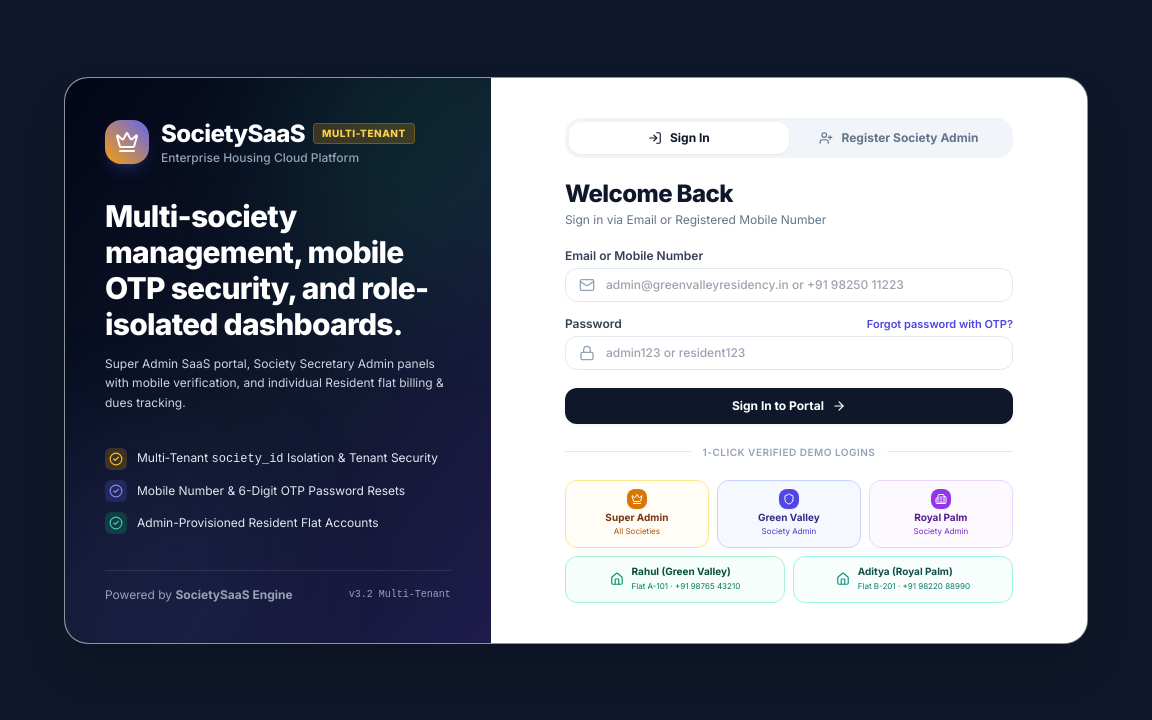
Test: LoginPage › allows switching between Sign In and Register
This screenshot has width=1152, height=720.
Click the button "Register Society Admin" at {"x": 899, "y": 138}, box x1=789 y1=122 x2=1009 y2=154
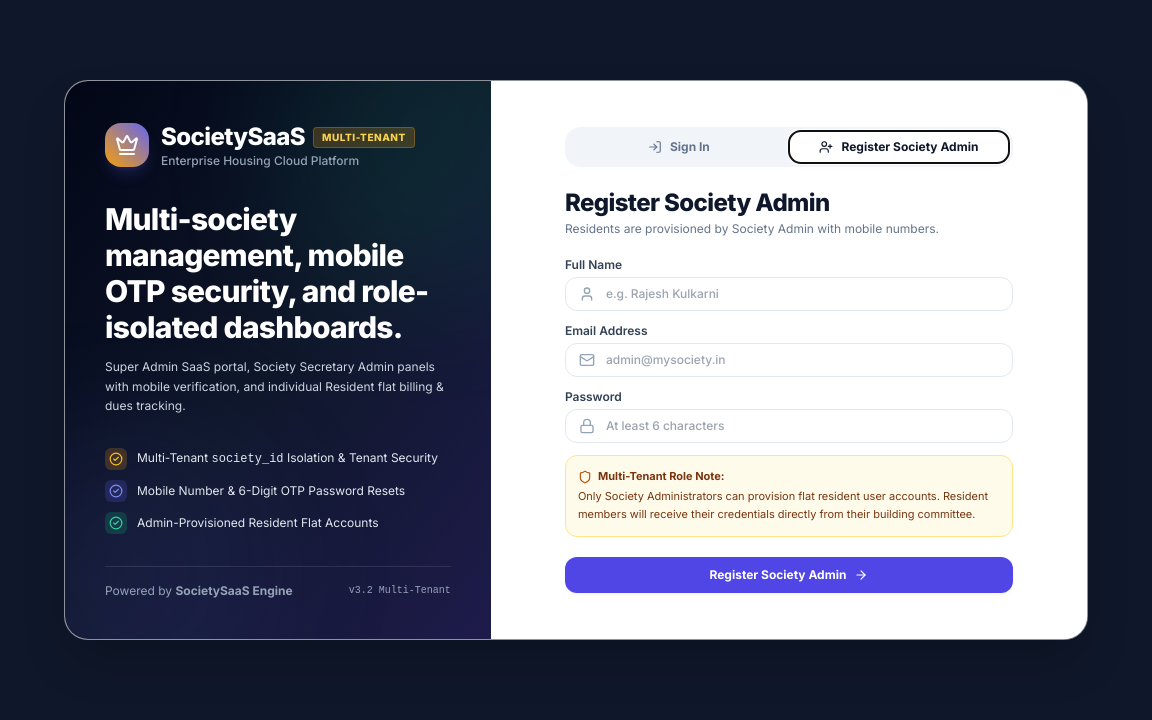
Result: the heading "Register Society Admin" is shown at x1=565 y1=188 x2=830 y2=217
Result: the field with placeholder "e.g. Rajesh Kulkarni" is shown at x1=565 y1=277 x2=1013 y2=311
Click the button "Sign In" at {"x": 679, "y": 147}, box x1=569 y1=131 x2=789 y2=163
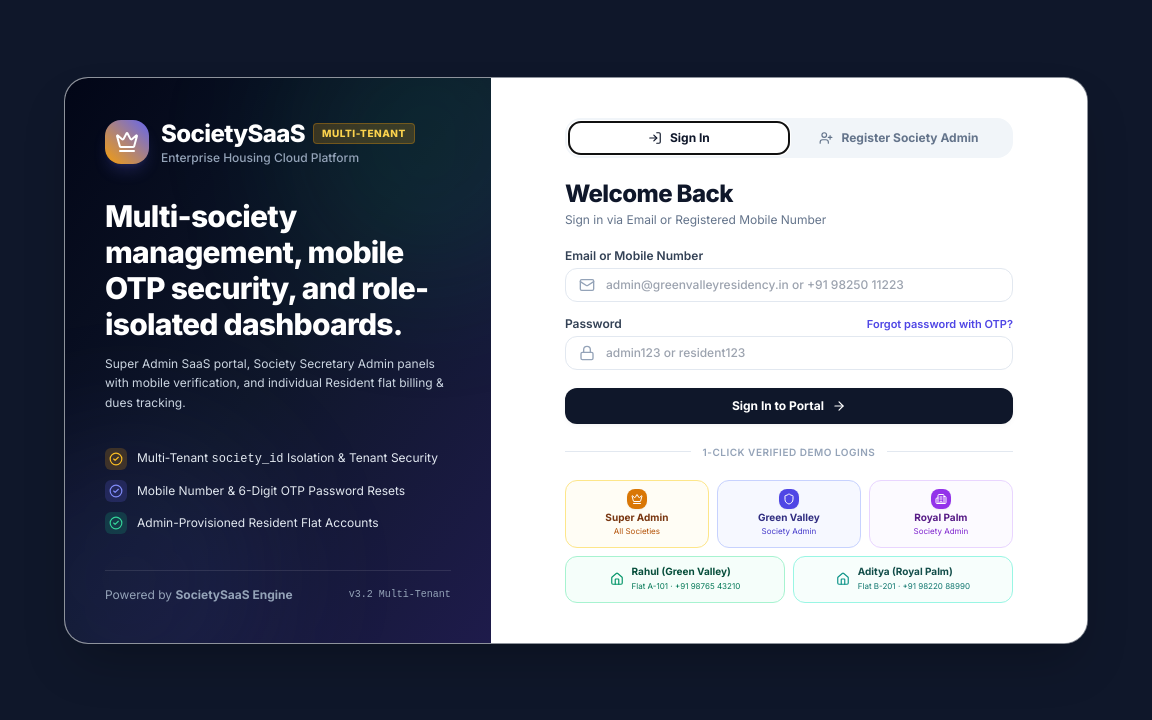
Result: the heading "Welcome Back" is shown at x1=565 y1=178 x2=733 y2=208
